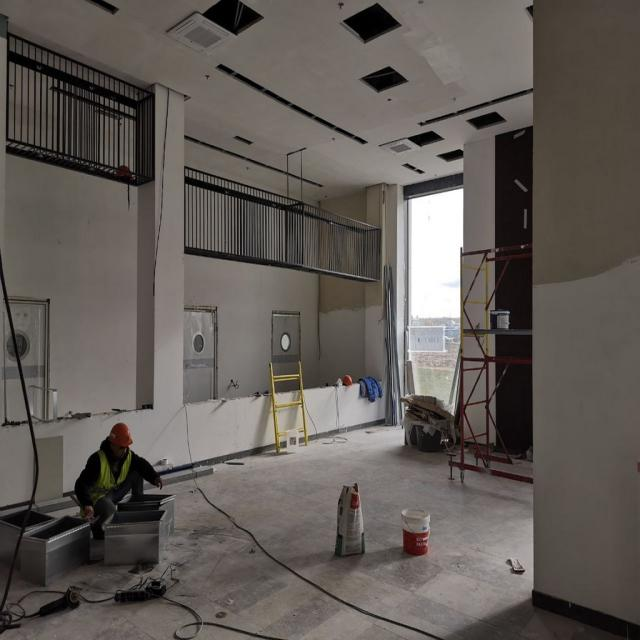Helmet: (109, 425, 134, 458), (343, 375, 354, 388)
Jacket: (94, 449, 136, 505)
